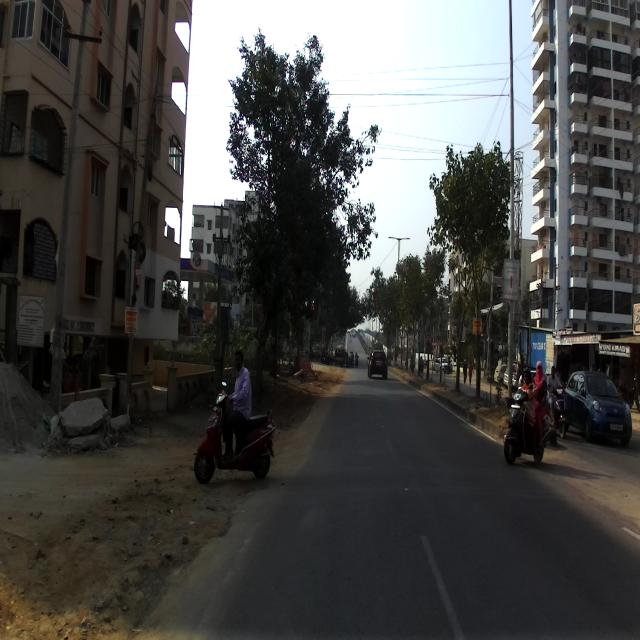motorcycle ahead at: (192, 365, 274, 493), (500, 383, 550, 469)
stones ahead at: (43, 388, 135, 460)
